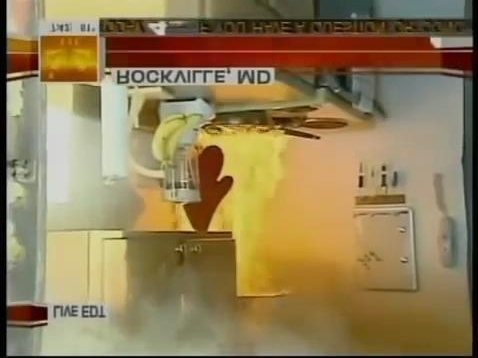fire: (157, 114, 315, 322)
